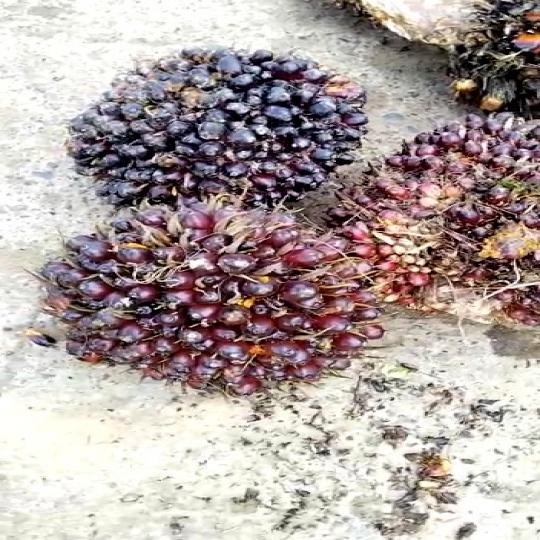kurang masak: (35, 208, 412, 390), (65, 40, 371, 216)
